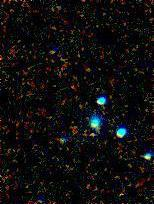star: (76, 121, 106, 151)
